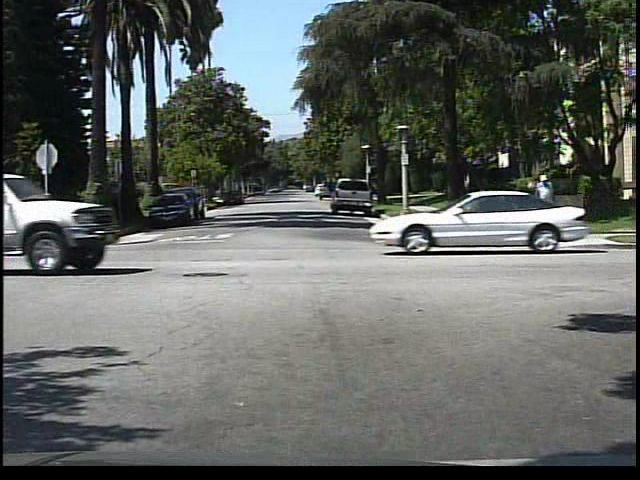person: (529, 172, 558, 232)
